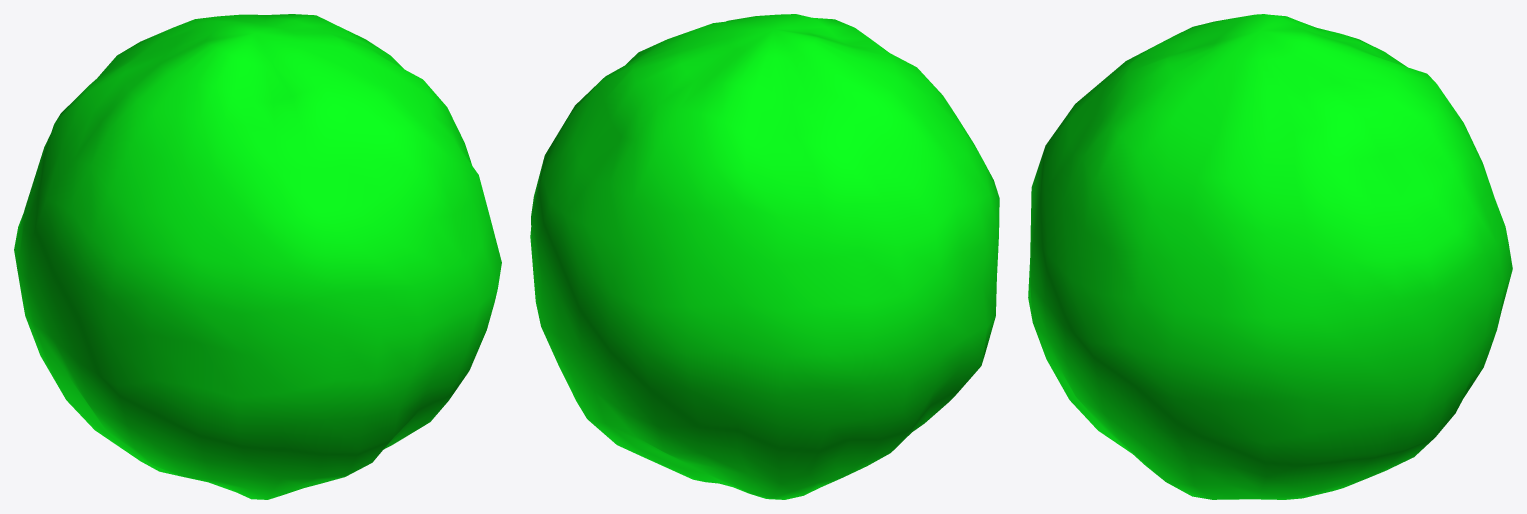
Rendered from 04_RockBall.fbx.
3 renders of one model, left to right at view 1: azimuth 30°, elevation 25°; view 2: azimuth 150°, elevation 25°; view 3: azimuth 270°, elevation 25°, orthographic.
Parts seen in each view (by area): view 1: 04_RockBall; view 2: 04_RockBall; view 3: 04_RockBall.
Part boxes in pixels (left/top/right/bottom): 04_RockBall: left=14, top=14, right=501, bottom=499; 04_RockBall: left=530, top=14, right=999, bottom=499; 04_RockBall: left=1028, top=14, right=1512, bottom=499.
Bounding box in the file's own units: 20.1 × 20.3 × 20.09.
